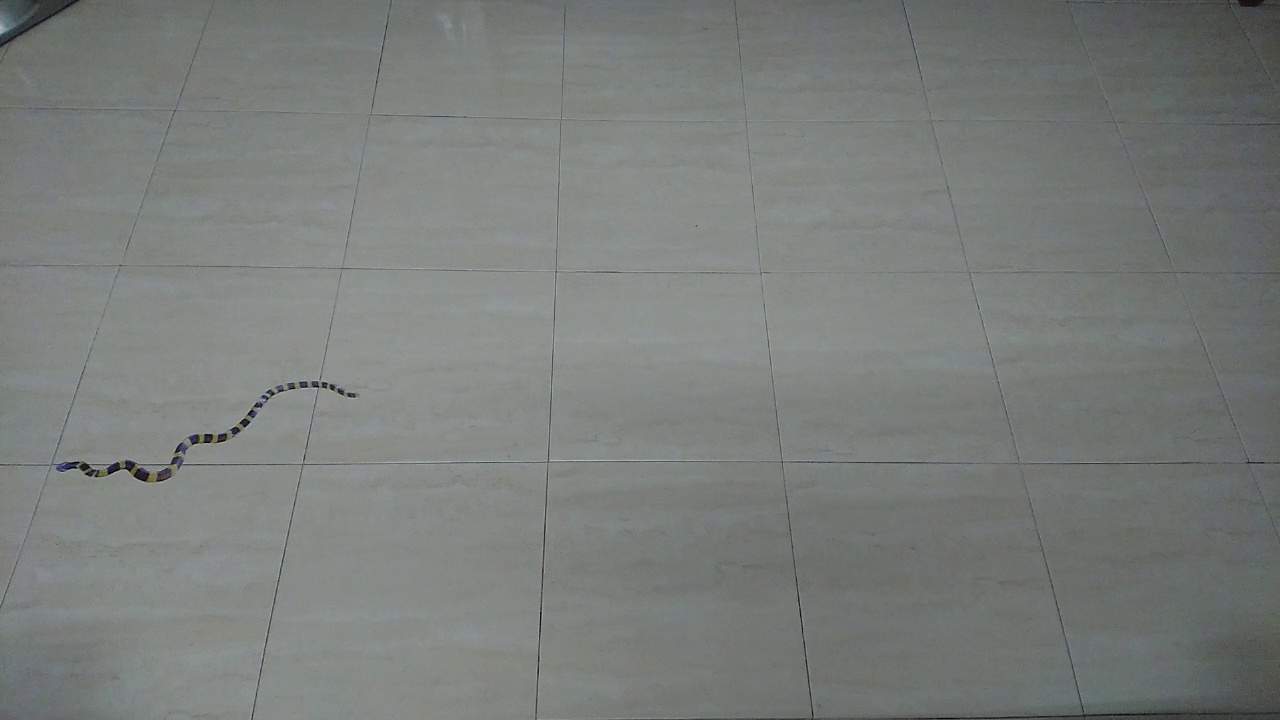snake: (43, 368, 370, 496)
